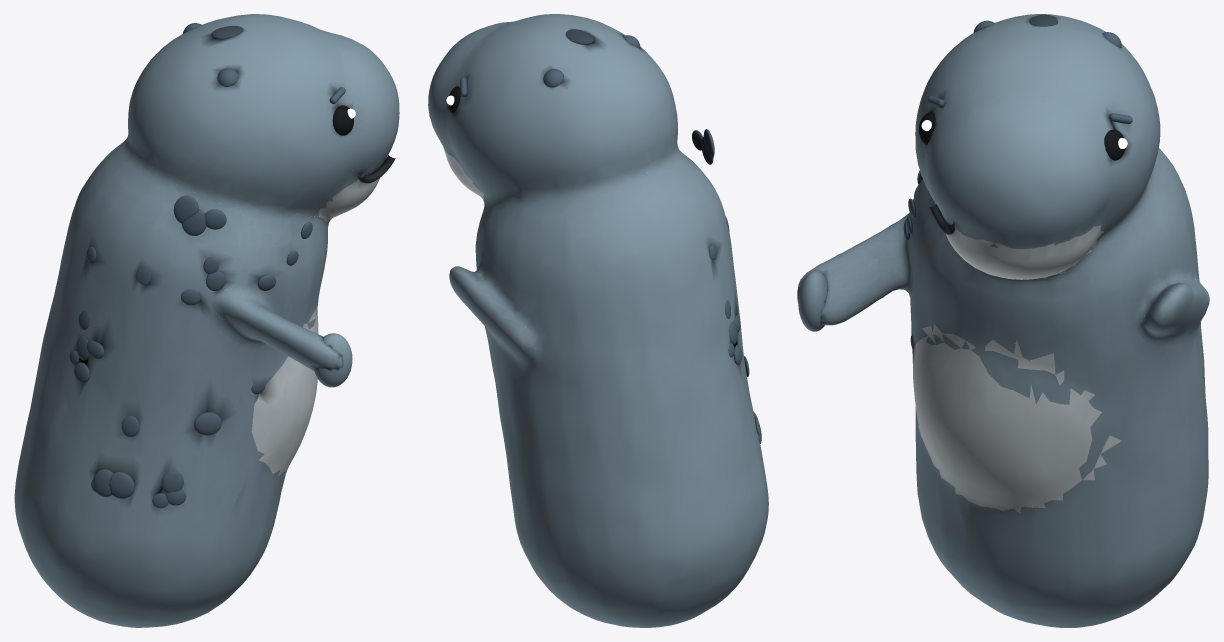
The model's file is vad-heter-du.glb.
3 views of the same model, side by side, from view 1: azimuth 30°, elevation 25°; view 2: azimuth 150°, elevation 25°; view 3: azimuth 270°, elevation 25° (orthographic). The views are drawn at different scales.
Parts seen in each view (by area): view 1: narval__r0, narval__r32, narval__r11; view 2: narval__r0; view 3: narval__r0, narval__r32.
Boxes of the visible parts, x1,y1,x2,y2 form: narval__r0: (14,14,399,627); narval__r32: (314,333,352,387); narval__r11: (110,472,134,498); narval__r0: (428,14,768,627); narval__r0: (797,14,1209,627); narval__r32: (798,271,828,331).
Size of the model in its own units: 1.55 by 2.52 by 1.48.
